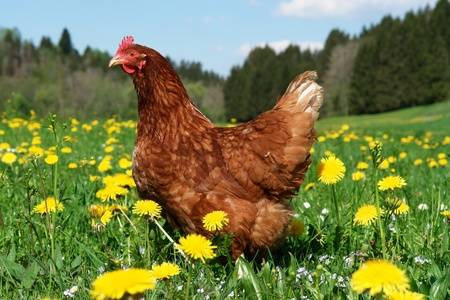chicken: (107, 33, 326, 265)
